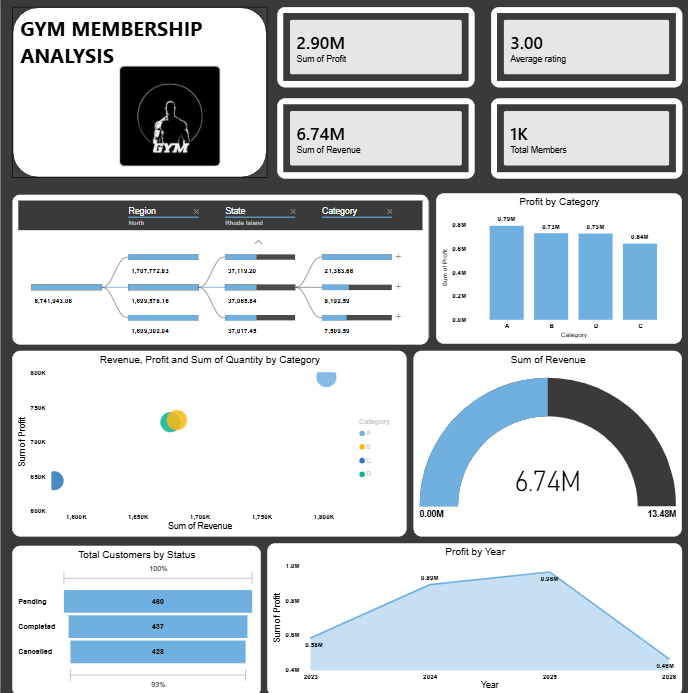

The dashboard page shown, as its layout file describes it:
{"tool":"powerbi","page":{"name":"Page 1","canvas":[1300,1300],"ordinal":0},"visuals":[{"type":"decompositionTreeVisual","fields":{"Analyze":["Sum(08_Gym_Memberships.Revenue)"],"ExplainBy":["08_Gym_Memberships.Region","08_Gym_Memberships.State","08_Gym_Memberships.Category","08_Gym_Memberships.City"]},"box":[20.5,366.7,774.4,279.5],"z":0},{"type":"scatterChart","title":" Revenue, Profit and Sum of Quantity by Category","fields":{"X":["Sum(08_Gym_Memberships.Revenue)"],"Y":["Sum(08_Gym_Memberships.Profit)"],"Size":["Sum(08_Gym_Memberships.Quantity)"],"Series":["08_Gym_Memberships.Category"]},"box":[20.1,658.8,733.4,345.9],"z":1000},{"type":"funnel","title":"Total Customers by Status","fields":{"Category":["08_Gym_Memberships.Status"],"Y":["08_Gym_Memberships.Count of record_id"]},"box":[20.1,1020.4,462.1,279.9],"z":2000},{"type":"areaChart","title":" Profit by Year","fields":{"Category":["08_Gym_Memberships.Transaction_Date.Variation.Date Hierarchy.Year","08_Gym_Memberships.Transaction_Date.Variation.Date Hierarchy.Quarter","08_Gym_Memberships.Transaction_Date.Variation.Date Hierarchy.Month","08_Gym_Memberships.Transaction_Date.Variation.Date Hierarchy.Day"],"Y":["Sum(08_Gym_Memberships.Profit)"]},"box":[495.1,1016.1,772.1,284.2],"z":3000},{"type":"gauge","fields":{"Y":["Sum(08_Gym_Memberships.Revenue)"]},"box":[767.8,658.8,499.4,345.9],"z":4000},{"type":"columnChart","title":"Profit by Category","fields":{"Y":["Sum(08_Gym_Memberships.Profit)"],"Category":["08_Gym_Memberships.Category"]},"box":[809.5,364.5,457.8,279.9],"z":5000},{"type":"cardVisual","fields":{"Data":["Sum(08_Gym_Memberships.Revenue)"]},"box":[513.8,188,367.4,149.3],"z":6000},{"type":"cardVisual","fields":{"Data":["Sum(08_Gym_Memberships.Profit)"]},"box":[513.8,18.7,367.4,149.3],"z":7000},{"type":"cardVisual","fields":{"Data":["08_Gym_Memberships.Total Members"]},"box":[911.3,188,355.9,149.3],"z":8000},{"type":"cardVisual","fields":{"Data":["08_Gym_Memberships.Average rating"]},"box":[911.3,18.7,355.9,149.3],"z":9000},{"type":"shape","box":[20.5,17.9,474.4,317.9],"z":9001},{"type":"image","box":[146.2,128.2,335.9,187.2],"z":9002}]}

Visuals, with their boxes in screenshot pixels (x1, y1, x2, y2), scaled from the page's 1300x1300 canvas onto the 688x693 screenshot:
decompositionTreeVisual - Sum(08_Gym_Memberships.Revenue) x 08_Gym_Memberships.Region: 11, 195, 421, 344
" Revenue, Profit and Sum of Quantity by Category" scatterChart: 11, 351, 399, 536
"Total Customers by Status" funnel: 11, 544, 255, 692
" Profit by Year" areaChart: 262, 542, 671, 692
gauge - Sum(08_Gym_Memberships.Revenue): 406, 351, 671, 536
"Profit by Category" columnChart: 428, 194, 671, 344
cardVisual - Sum(08_Gym_Memberships.Revenue): 272, 100, 466, 180
cardVisual - Sum(08_Gym_Memberships.Profit): 272, 10, 466, 90
cardVisual - 08_Gym_Memberships.Total Members: 482, 100, 671, 180
cardVisual - 08_Gym_Memberships.Average rating: 482, 10, 671, 90
shape: 11, 10, 262, 179
image: 77, 68, 255, 168
